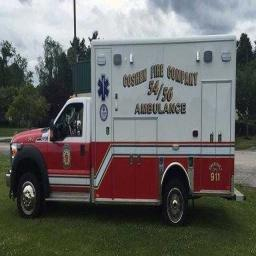ambulance: (6, 35, 242, 224)
